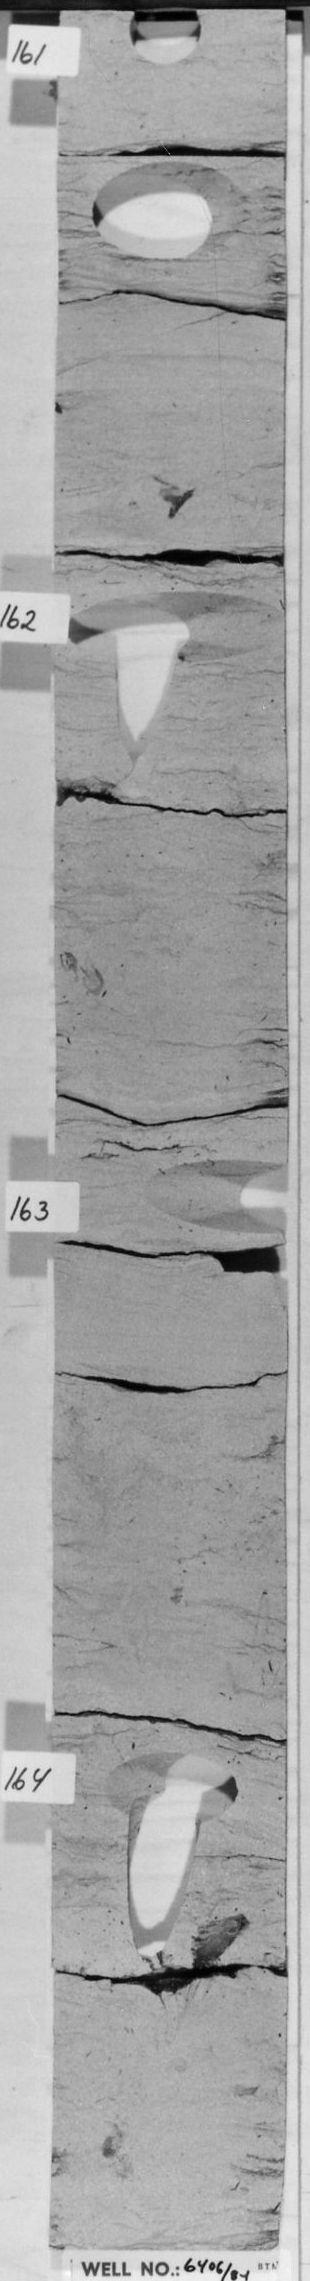hplug: (58, 585, 284, 666), (137, 1158, 284, 1239), (100, 1749, 247, 1818), (125, 12, 211, 68)
scal: (83, 161, 249, 271)
vplug: (119, 1813, 198, 1964), (108, 658, 180, 778)
